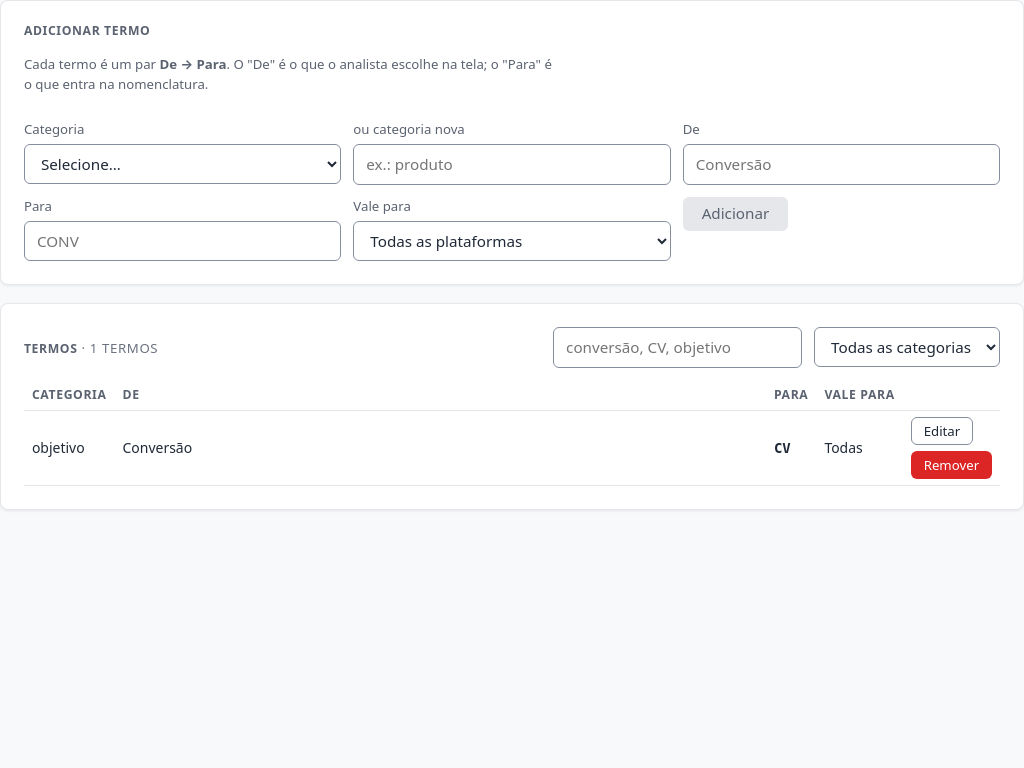
it: os três estados vazios › categoria sem termos é um terceiro vazio, com a saída certa
This screenshot has width=1024, height=768.
Check: the text "Conversão" is shown, box 114,411 -> 766,486
In the search field named "Buscar termo": (678, 348) 553,327 -> 802,368, type "zzz"
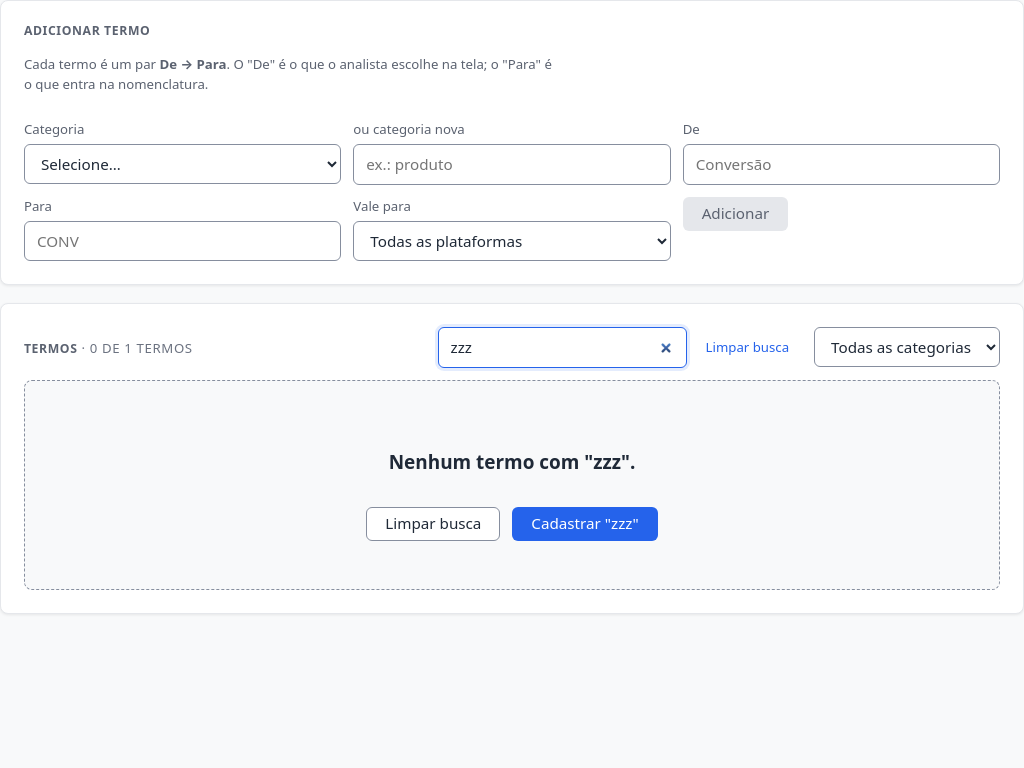
Check: the text "Nenhum termo com \"zzz\"." is shown, box 389,448 -> 635,476
